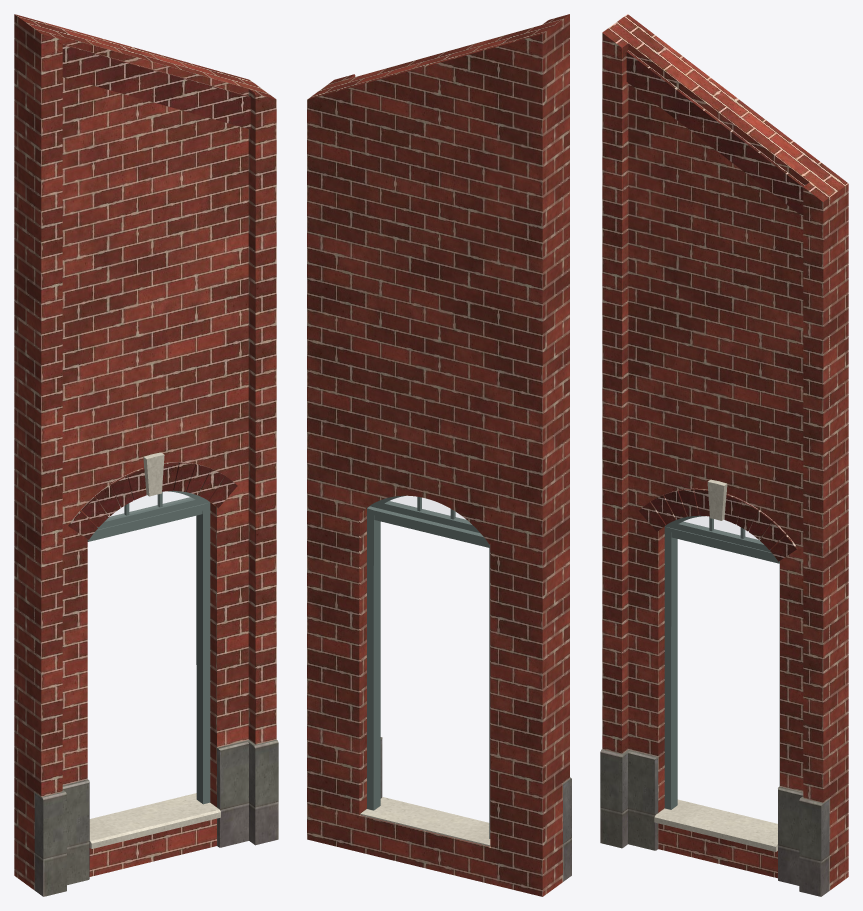
File: h_side_door_r0.glb
The picture shows the model from 3 angles, left to right: view 1: azimuth 30°, elevation 25°; view 2: azimuth 150°, elevation 25°; view 3: azimuth 330°, elevation 25°; orthographic projection. The views are drawn at different scales.
Visible parts, largest first — view 1: h_side_door_r0_brick, h_side_door_r0_plinth, h_side_door_r0_brick2, h_side_door_r0_wframe, h_side_door_r0_trim, h_side_door_r0_glass; view 2: h_side_door_r0_brick, h_side_door_r0_wframe, h_side_door_r0_trim, h_side_door_r0_plinth, h_side_door_r0_glass; view 3: h_side_door_r0_brick, h_side_door_r0_plinth, h_side_door_r0_brick2, h_side_door_r0_wframe, h_side_door_r0_trim, h_side_door_r0_glass.
Boxes of the visible parts, <box> form: h_side_door_r0_brick: <box>14,14,276,890</box>; h_side_door_r0_plinth: <box>34,739,278,896</box>; h_side_door_r0_brick2: <box>62,44,250,539</box>; h_side_door_r0_wframe: <box>87,490,210,804</box>; h_side_door_r0_trim: <box>89,452,220,848</box>; h_side_door_r0_glass: <box>108,492,191,518</box>; h_side_door_r0_brick: <box>307,14,569,896</box>; h_side_door_r0_wframe: <box>367,495,490,838</box>; h_side_door_r0_trim: <box>360,797,490,846</box>; h_side_door_r0_plinth: <box>380,737,571,881</box>; h_side_door_r0_glass: <box>389,496,467,521</box>; h_side_door_r0_brick: <box>602,14,848,890</box>; h_side_door_r0_plinth: <box>600,749,829,896</box>; h_side_door_r0_brick2: <box>626,50,804,561</box>; h_side_door_r0_wframe: <box>664,515,779,809</box>; h_side_door_r0_trim: <box>654,479,777,851</box>; h_side_door_r0_glass: <box>682,517,759,541</box>.
Size of the model in its own units: 2 by 7 by 0.43.
Materials: 6 (4 with a texture image).
